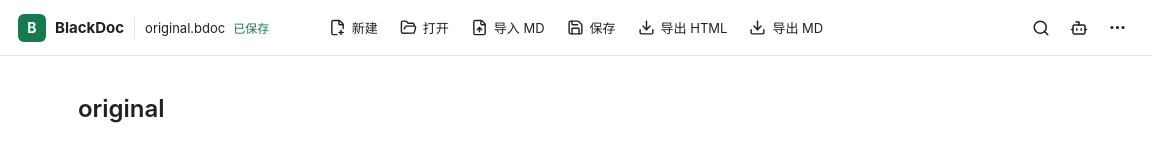
Test: desktop App lifecycle › reports a failure when the exported HTML cannot be opened
Click the button "导出 HTML".
click(682, 28)  # box [629, 10, 736, 44]
Wait 50 ms
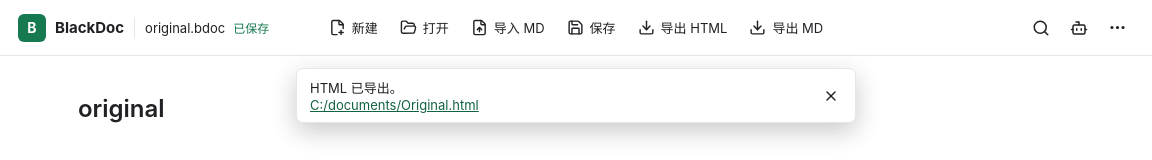
Click the button "C:/documents/Original.html".
click(394, 105)  # box [310, 97, 809, 113]
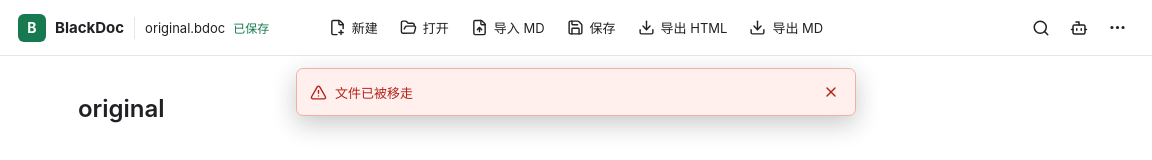
expect the message "文件已被移走" is shown: met, box [296, 68, 856, 116]
expect the button "C:/documents/Original.html" is gone: met
